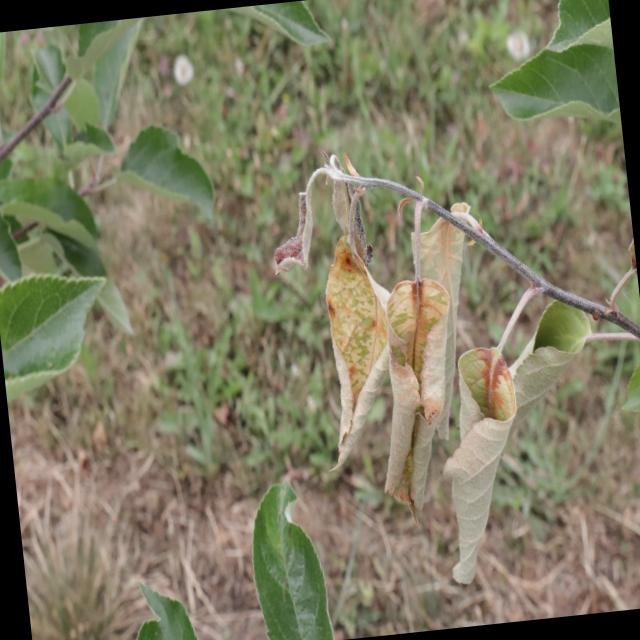-FireBlight-: (282, 146, 542, 580)
